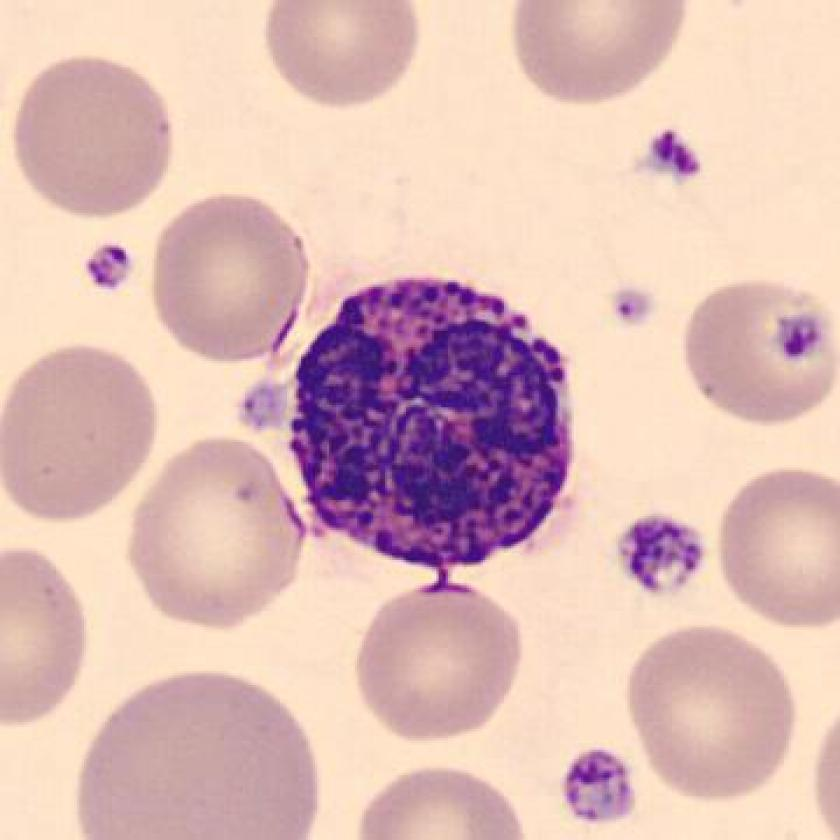basophil: (276, 270, 594, 573)
